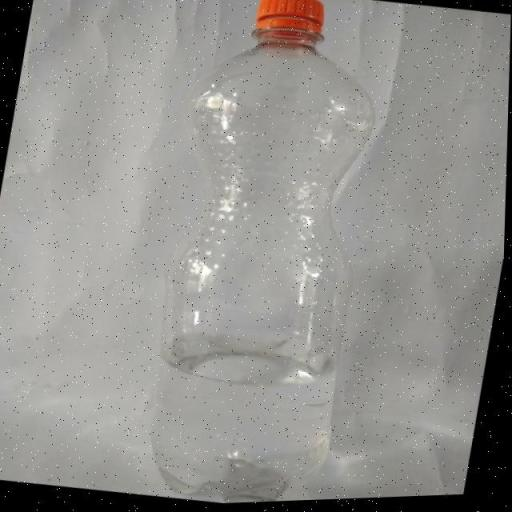plastic: (121, 0, 406, 508)
